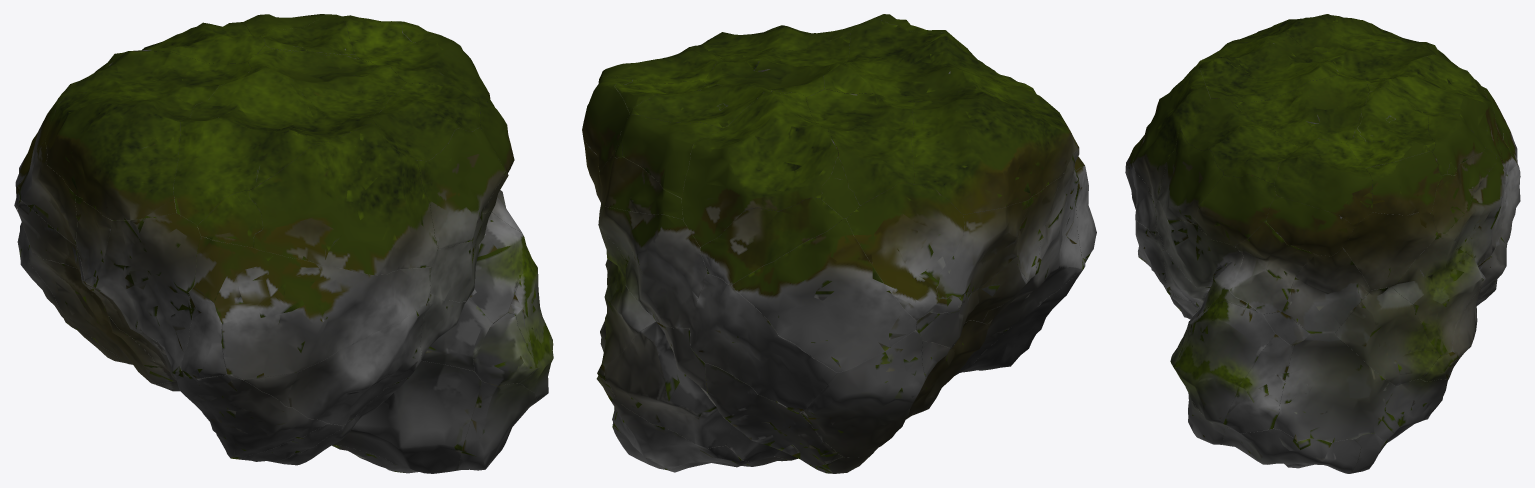
The model's file is demo2.fbx.
The picture shows the model from 3 angles, left to right: view 1: azimuth 30°, elevation 25°; view 2: azimuth 150°, elevation 25°; view 3: azimuth 270°, elevation 25°; orthographic projection. The views are drawn at different scales.
Parts seen in each view (by area): view 1: rock_cell.017, rock_cell.046, rock_cell.100, rock_cell.033, rock_cell.090, rock_cell.092, rock_cell.116, rock_cell.060, rock_cell.126, rock_cell.110, rock_cell.079, rock_cell.151 (+23 smaller); view 2: rock_cell.033, rock_cell.144, rock_cell.138, rock_cell.100, rock_cell.019, rock_cell.073, rock_cell.118, rock_cell.098, rock_cell.114, rock_cell.151, rock_cell.094, rock_cell.077 (+22 smaller); view 3: rock_cell.056, rock_cell.039, rock_cell.100, rock_cell.087, rock_cell.079, rock_cell.106, rock_cell.043, rock_cell.058, rock_cell.138, rock_cell.127, rock_cell.134, rock_cell.126 (+27 smaller).
Part boxes in pixels (x1,y1,x2,y2): rock_cell.017: [194, 236, 431, 379]; rock_cell.046: [249, 123, 437, 275]; rock_cell.100: [173, 66, 375, 225]; rock_cell.033: [45, 88, 194, 220]; rock_cell.090: [93, 213, 200, 379]; rock_cell.092: [333, 360, 481, 473]; rock_cell.116: [288, 300, 430, 425]; rock_cell.060: [172, 366, 326, 458]; rock_cell.126: [430, 210, 527, 323]; rock_cell.110: [417, 127, 505, 250]; rock_cell.079: [248, 49, 406, 118]; rock_cell.151: [69, 51, 251, 105]; rock_cell.033: [911, 86, 1076, 214]; rock_cell.144: [731, 218, 916, 372]; rock_cell.138: [681, 91, 838, 246]; rock_cell.100: [824, 19, 1049, 104]; rock_cell.019: [846, 182, 964, 320]; rock_cell.073: [690, 274, 836, 413]; rock_cell.118: [604, 321, 732, 448]; rock_cell.098: [801, 330, 925, 457]; rock_cell.114: [598, 206, 707, 328]; rock_cell.151: [806, 89, 915, 211]; rock_cell.094: [700, 197, 843, 284]; rock_cell.077: [704, 363, 842, 466]; rock_cell.056: [1273, 333, 1396, 442]; rock_cell.039: [1175, 301, 1275, 427]; rock_cell.100: [1200, 32, 1344, 102]; rock_cell.087: [1335, 286, 1440, 386]; rock_cell.079: [1231, 75, 1369, 146]; rock_cell.106: [1391, 233, 1485, 355]; rock_cell.043: [1274, 138, 1372, 225]; rock_cell.058: [1181, 98, 1298, 183]; rock_cell.138: [1365, 54, 1502, 161]; rock_cell.127: [1342, 212, 1437, 289]; rock_cell.134: [1282, 247, 1370, 333]; rock_cell.126: [1155, 201, 1256, 318].
Size of the model in its own units: 472 by 455 by 464.
Materials: 1 (1 with a texture image).
